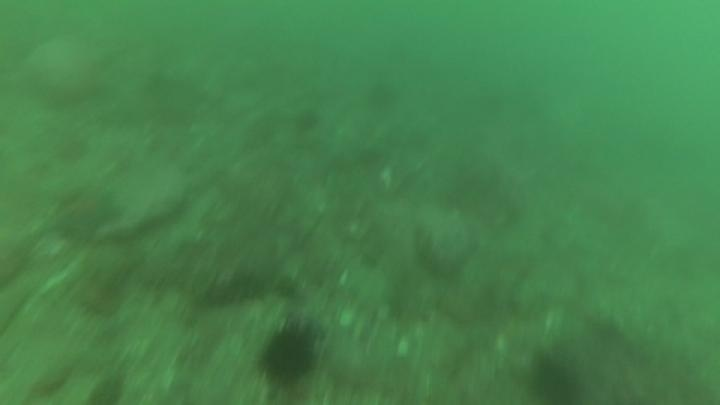echinus: (254, 319, 322, 391), (526, 353, 583, 405), (363, 79, 401, 114), (291, 107, 323, 136)
starfish: (51, 185, 123, 244)
